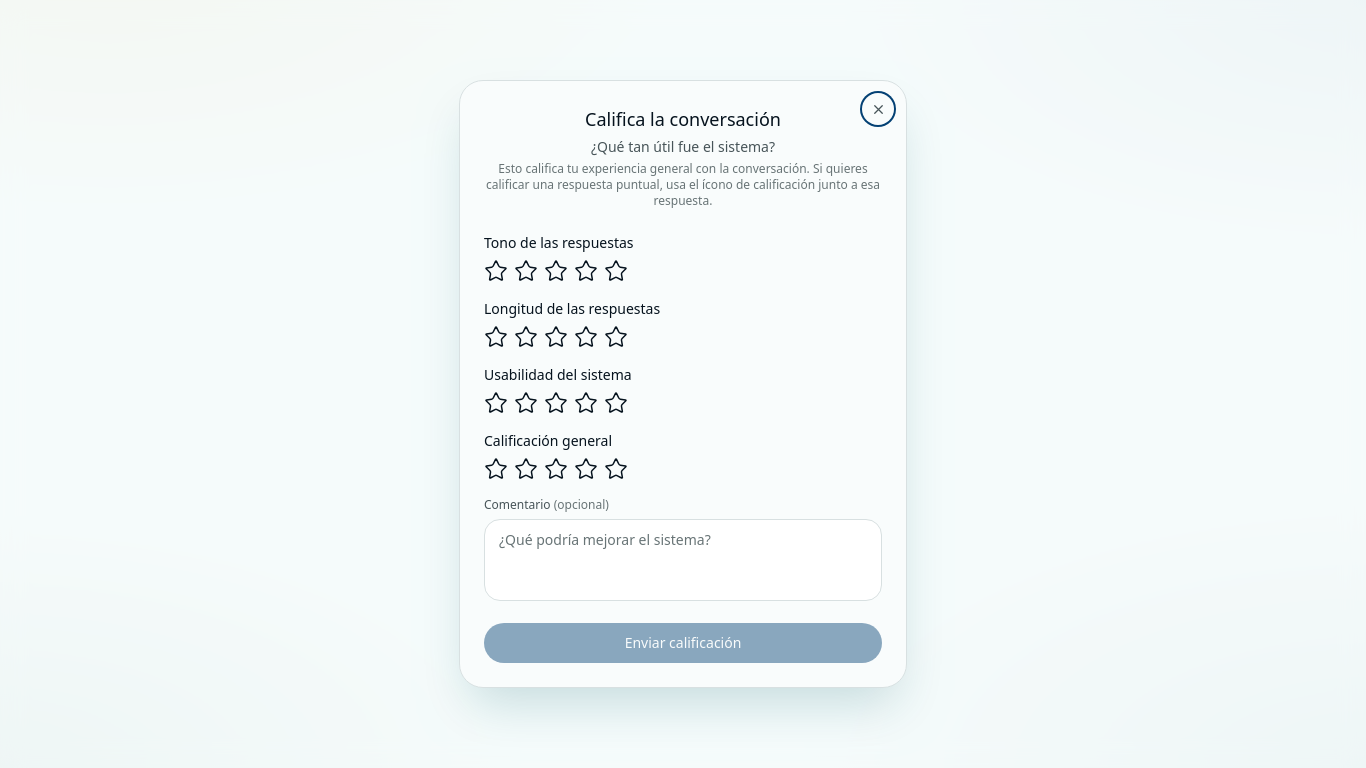
Scenario: FeedbackModal — nombre accesible persistente y reflow › el panel tiene nombre accesible no vacío en idle, loading y success
Click the button named "Excelente" below "Tono de las respuestas" at (616, 271), box [604,259,628,283]
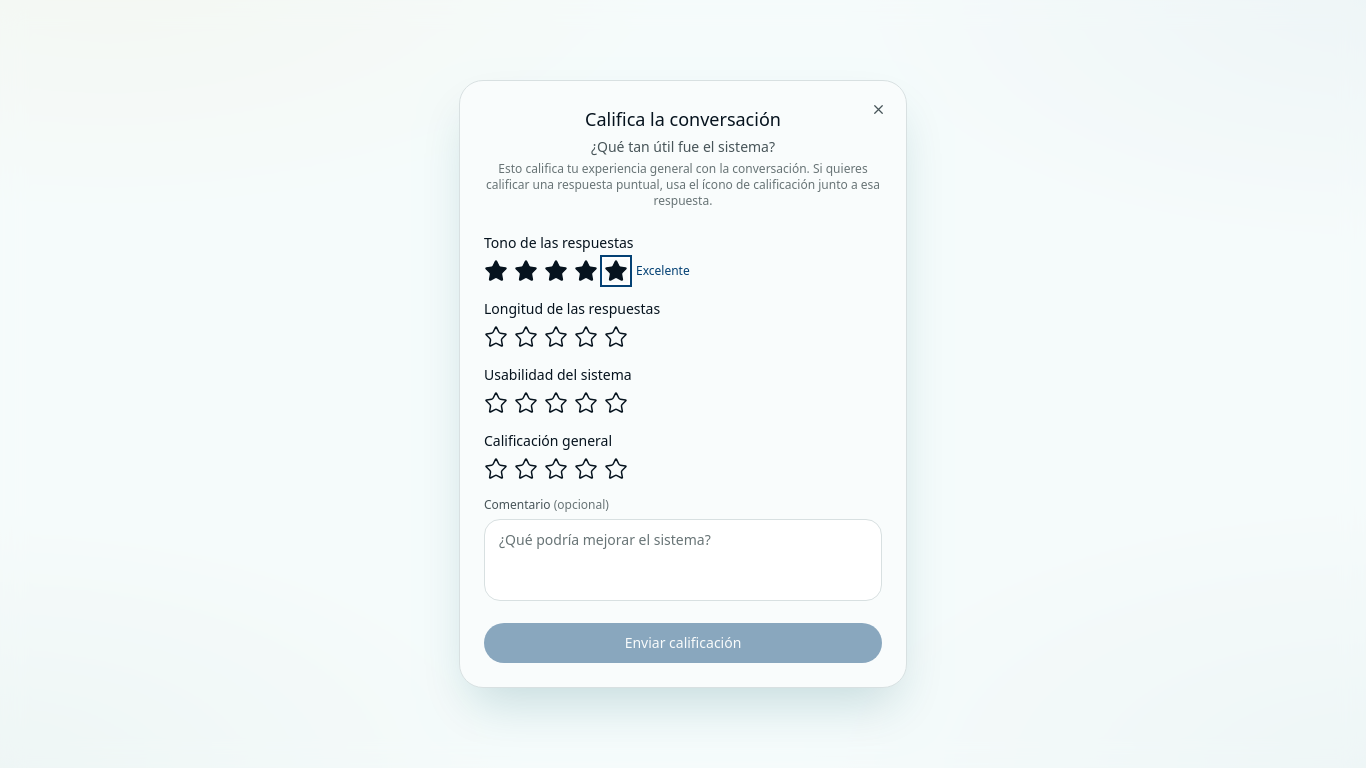
Click the button named "Muy larga" at (616, 337), box [604,325,628,349]
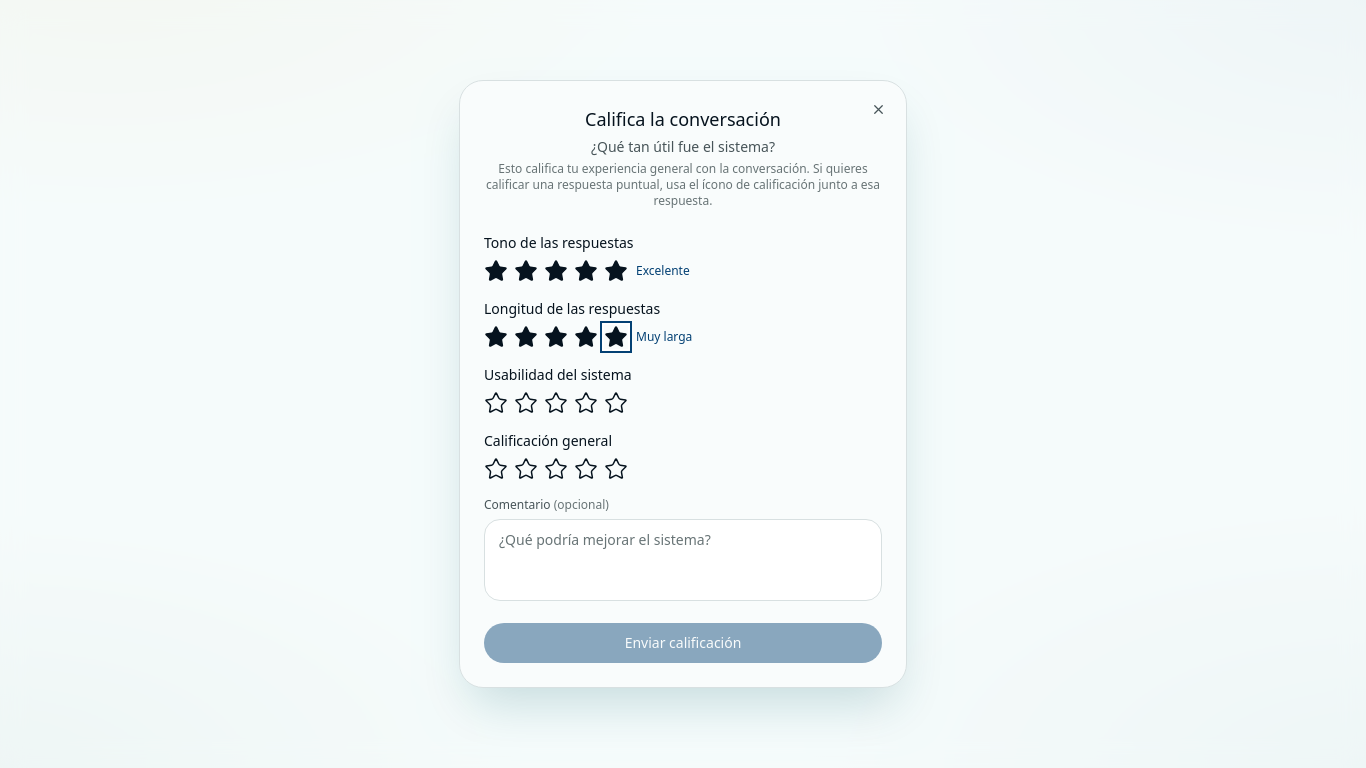
Click the button named "Excelente" below "Usabilidad del sistema" at (616, 403), box [604,391,628,415]
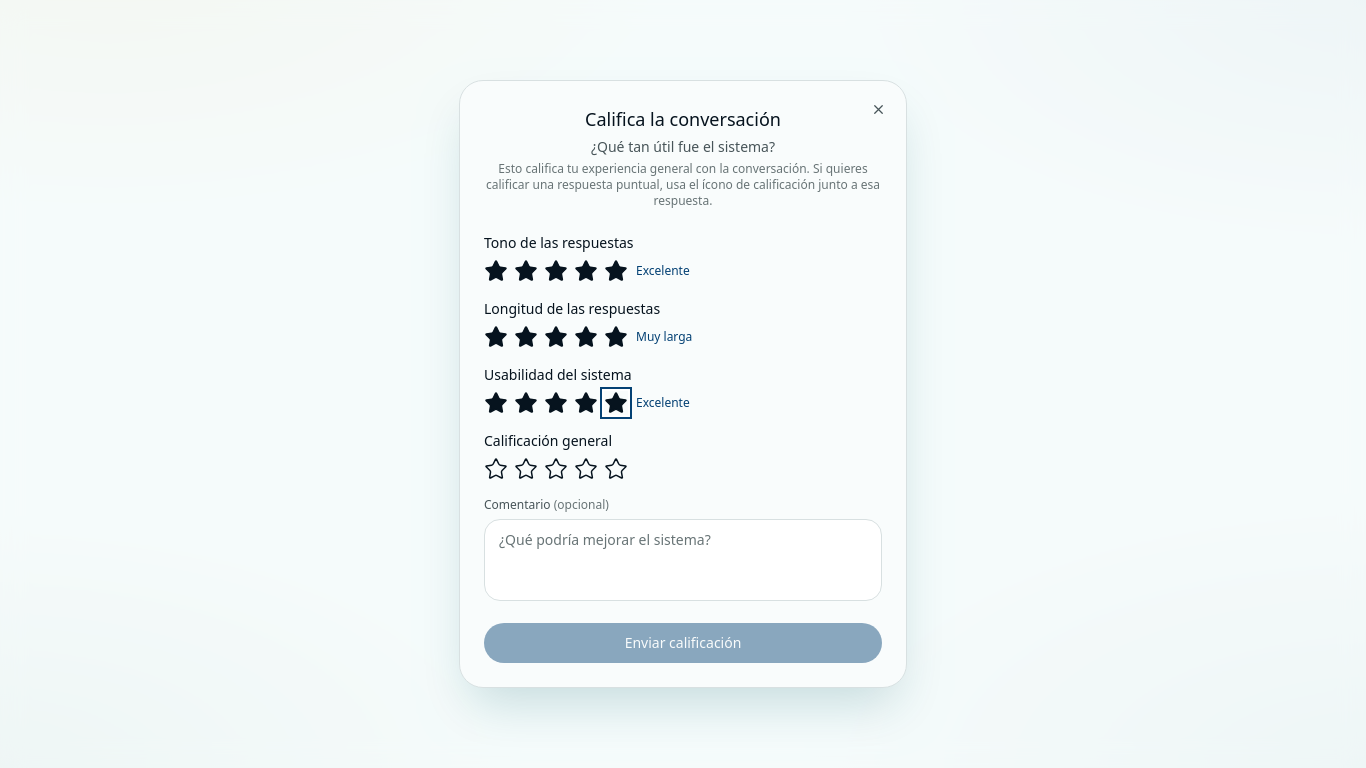
Click the button named "Excelente" below "Calificación general" at (616, 469), box [604,457,628,481]
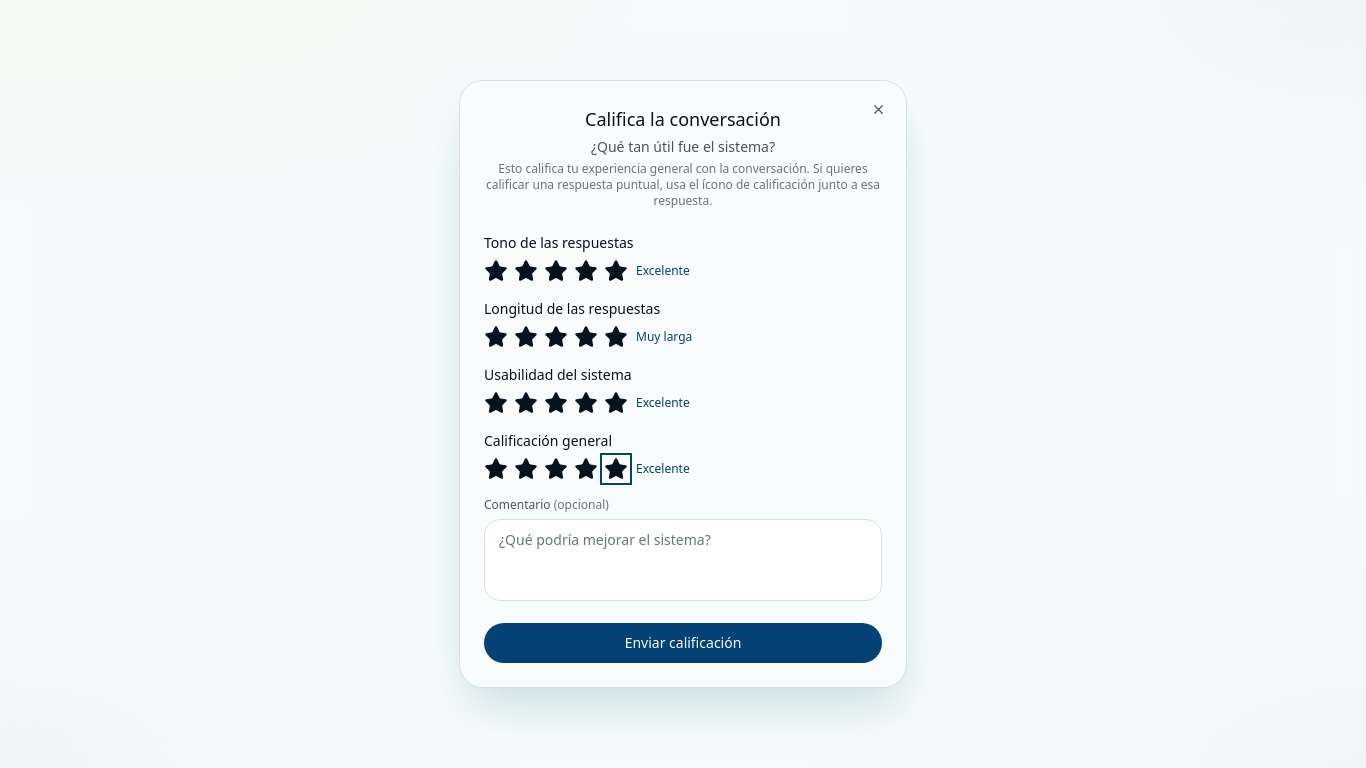
Click the button "Enviar calificación" at (683, 643), box [484,623,882,663]
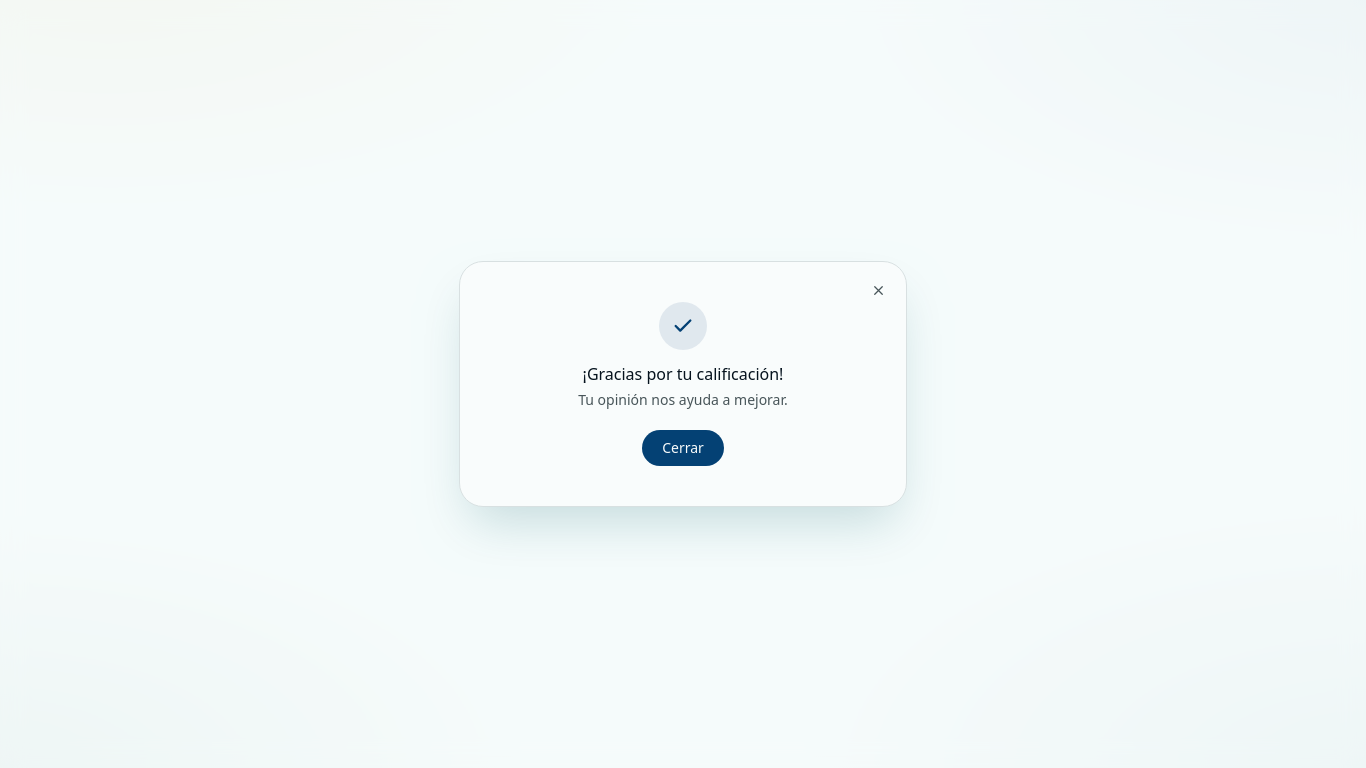
Expected: the text "¡Gracias por tu calificación!" is shown, [578,362,788,386]
